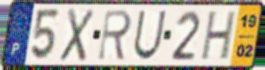2: (169, 9, 201, 62)
5: (30, 7, 62, 63)
H: (199, 9, 239, 62)
R: (95, 8, 134, 63)
U: (131, 9, 168, 62)
X: (58, 7, 96, 63)
